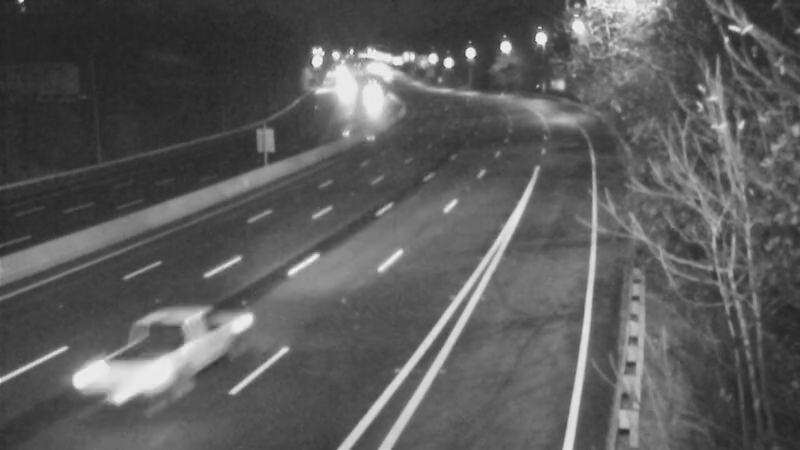vehicle: (91, 298, 201, 408), (353, 75, 403, 125), (323, 65, 373, 115)
